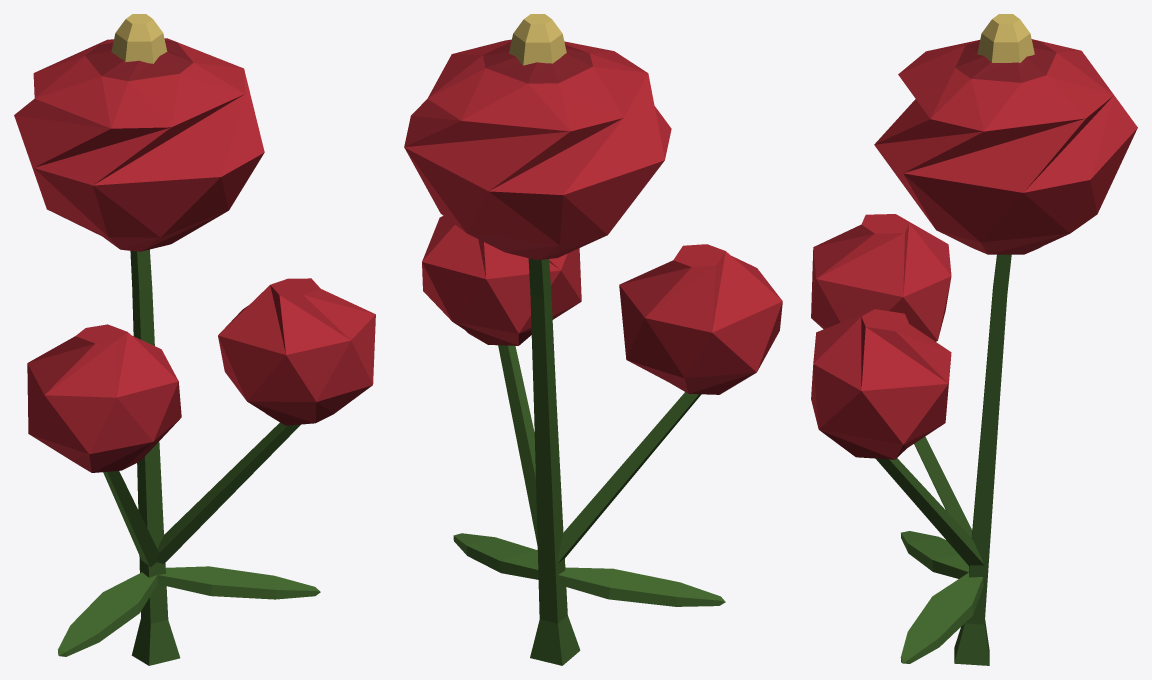
Rendered from flower_red.gltf.
3 renders of one model, left to right at view 1: azimuth 30°, elevation 25°; view 2: azimuth 150°, elevation 25°; view 3: azimuth 270°, elevation 25°, orthographic. The views are drawn at different scales.
Visible parts, largest first — view 1: flower_red; view 2: flower_red; view 3: flower_red.
Part boxes in pixels (<box>): flower_red: <box>14,14,375,665</box>; flower_red: <box>404,14,782,665</box>; flower_red: <box>811,14,1137,665</box>.
Bounding box in the file's own units: 0.2236 × 0.404 × 0.1873.
